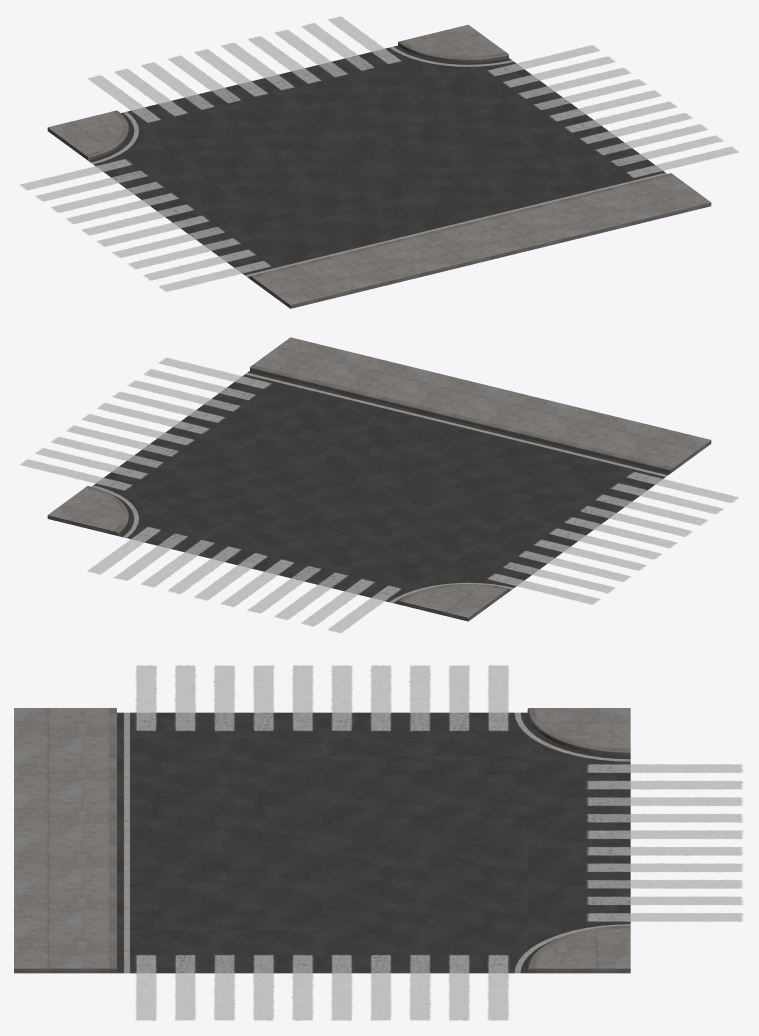
File: Street_TIntersection.glb
3 renders of one model, top to bottom at view 1: azimuth 30°, elevation 25°; view 2: azimuth 150°, elevation 25°; view 3: azimuth 270°, elevation 25°, orthographic. The views are drawn at different scales.
Parts seen in each view (by area): view 1: Street_TIntersection; view 2: Street_TIntersection; view 3: Street_TIntersection.
Boxes of the visible parts, box(x1,y1,x2,y2) form: Street_TIntersection: box(20, 16, 738, 308); Street_TIntersection: box(20, 337, 738, 632); Street_TIntersection: box(14, 665, 743, 1020).
Bounding box in the file's own units: 24.67 × 0.1506 × 21.33.
Materials: 3 (3 with a texture image).
